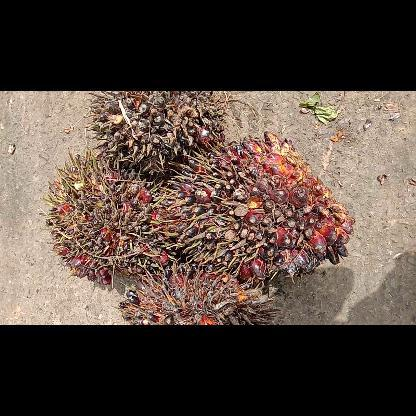TBS abnormal: (180, 131, 354, 287), (44, 152, 176, 284), (86, 91, 226, 177), (117, 274, 283, 324)
